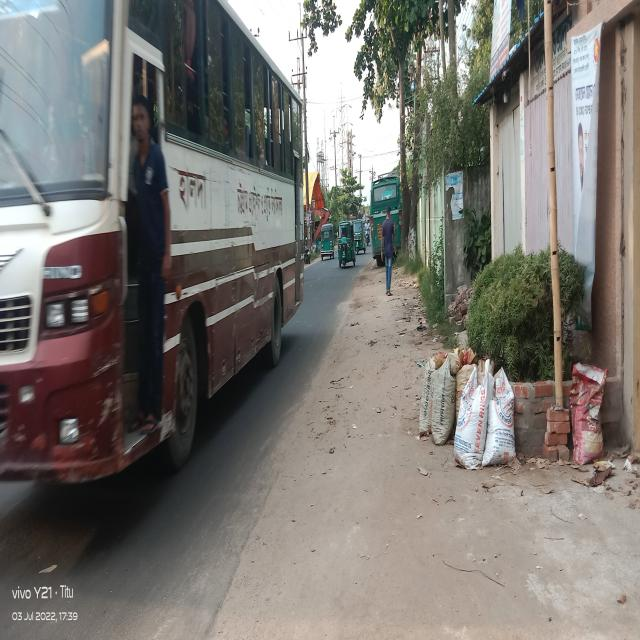bus: (2, 0, 312, 515)
